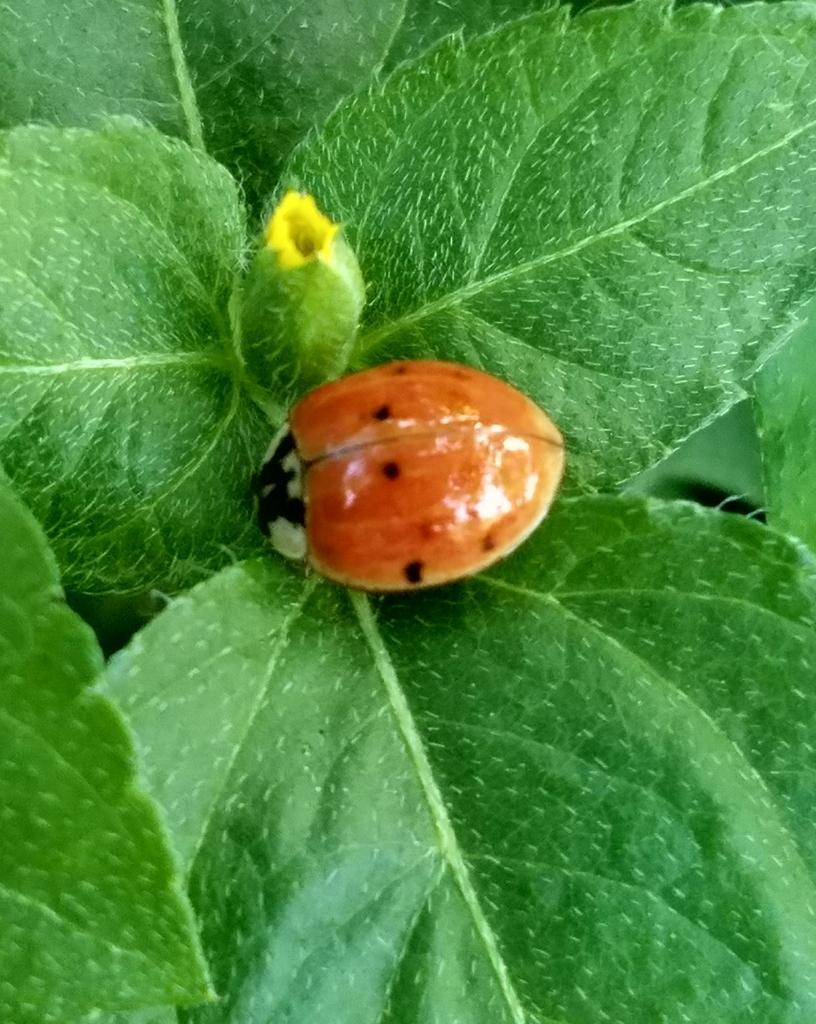ladybug: (249, 354, 569, 601)
